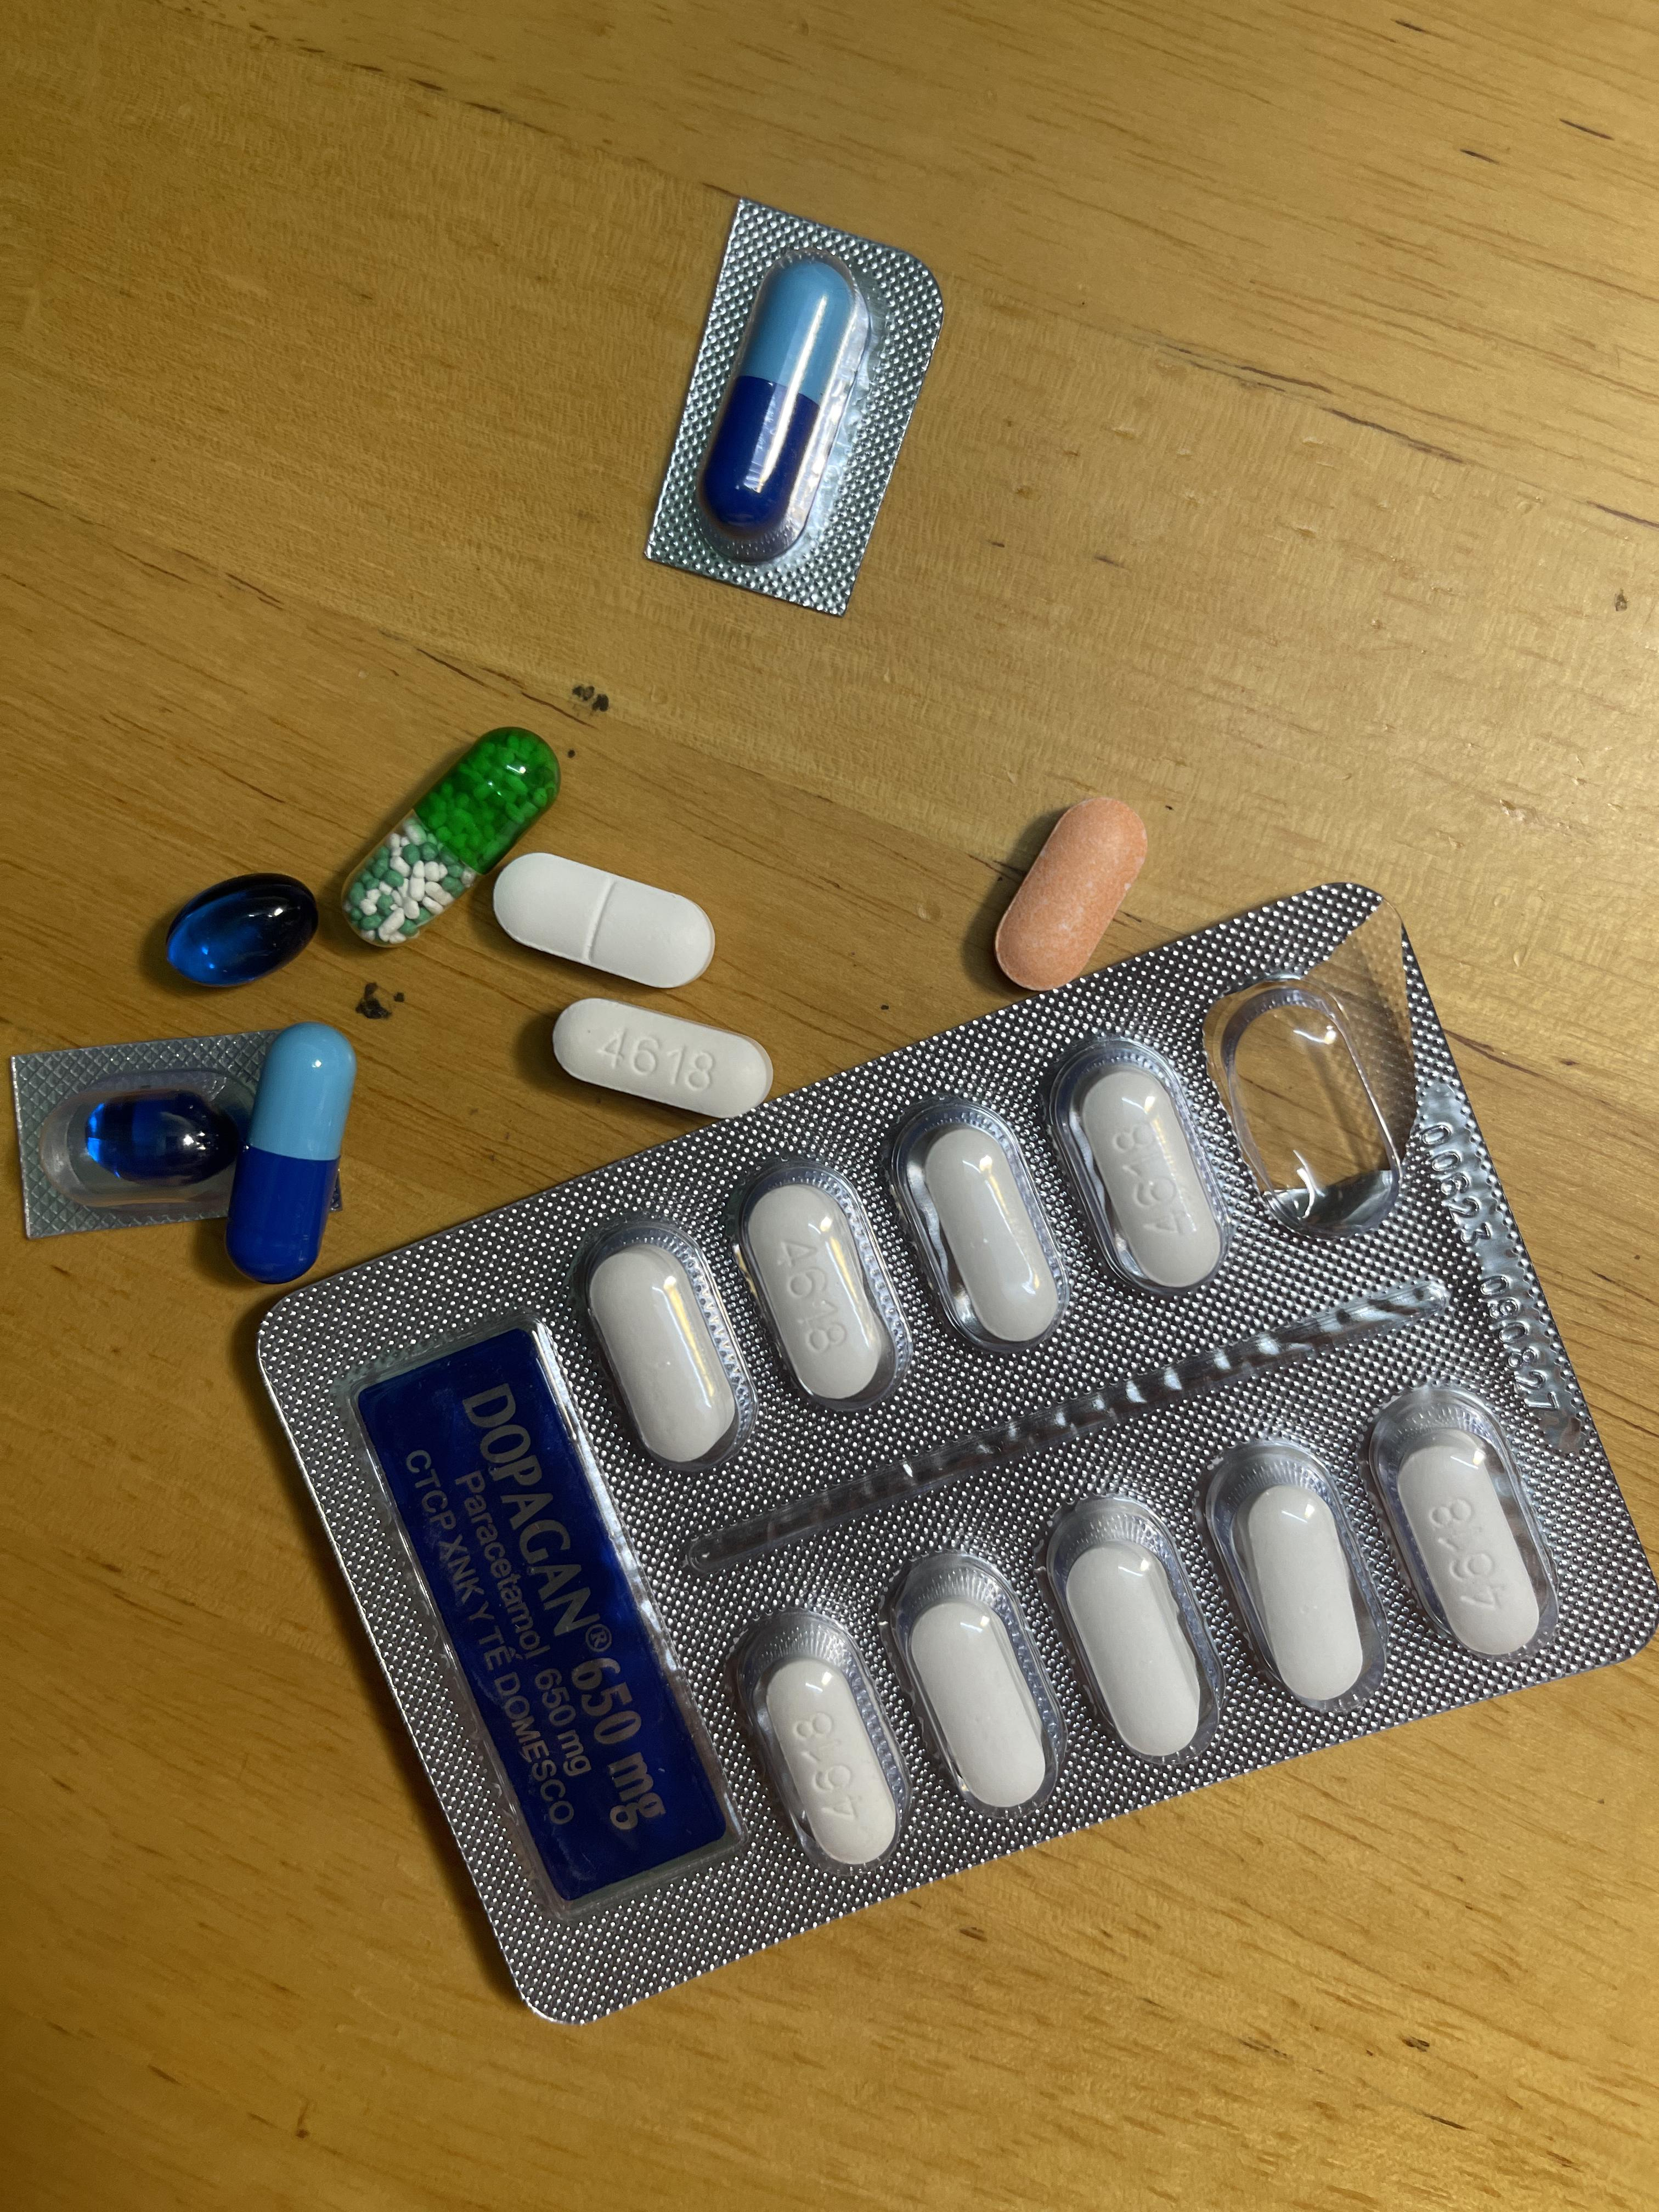Lincomyxin_500mg: (169, 874, 321, 982), (87, 1094, 235, 1184)
Loratadine_10mg: (990, 801, 1152, 989)
Paracetamol_350mg: (498, 857, 725, 995)
Paracetamol_500mg: (1068, 1054, 1225, 1291), (1061, 1538, 1202, 1764), (1396, 1442, 1541, 1658), (908, 1592, 1047, 1813), (589, 1249, 730, 1463), (918, 1125, 1056, 1343), (1237, 1479, 1364, 1709), (748, 1188, 884, 1402), (762, 1656, 894, 1869), (551, 1001, 769, 1113)
Paracetamol_650mg: (338, 728, 559, 944)
pill: (708, 258, 863, 545), (227, 1029, 354, 1273)
